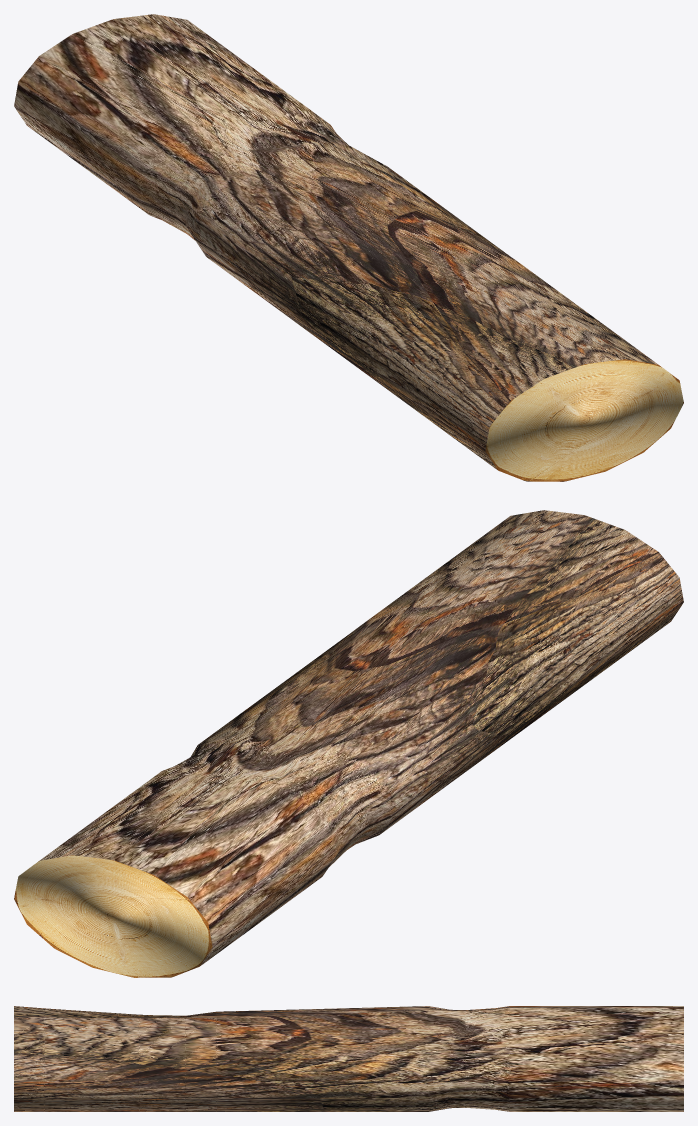
File: Tronco para banco - 02.fbx
3 views of the same model, one above another, from view 1: azimuth 30°, elevation 25°; view 2: azimuth 150°, elevation 25°; view 3: azimuth 270°, elevation 25° (orthographic). The views are drawn at different scales.
Visible parts, largest first — view 1: Cilindro; view 2: Cilindro; view 3: Cilindro.
Part boxes in pixels (x1,y1,x2,y2): Cilindro: (14,14,683,481); Cilindro: (14,510,683,977); Cilindro: (14,1006,683,1111).
Bounding box in the file's own units: 41.72 × 22.61 × 172.
Materials: 2 (2 with a texture image).
